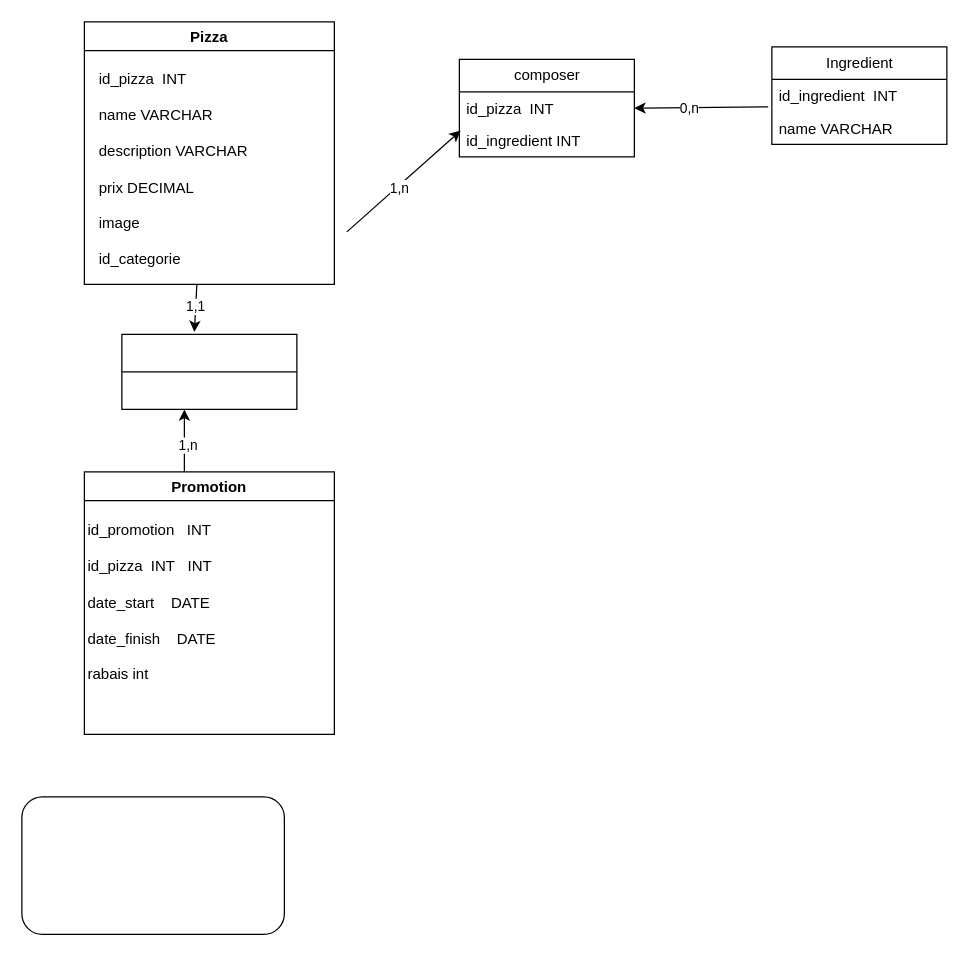
The diagram is 969 pixels wide and 956 high, and some of its shapes have lost their labels. The centre of each missing label's shape, as x and y in pixels:
"Project Group Ahmet - David PizzaApp Version 1.0 20.11.2025" belongs at (x=152, y=865).
"promu" belongs at (x=209, y=371).
